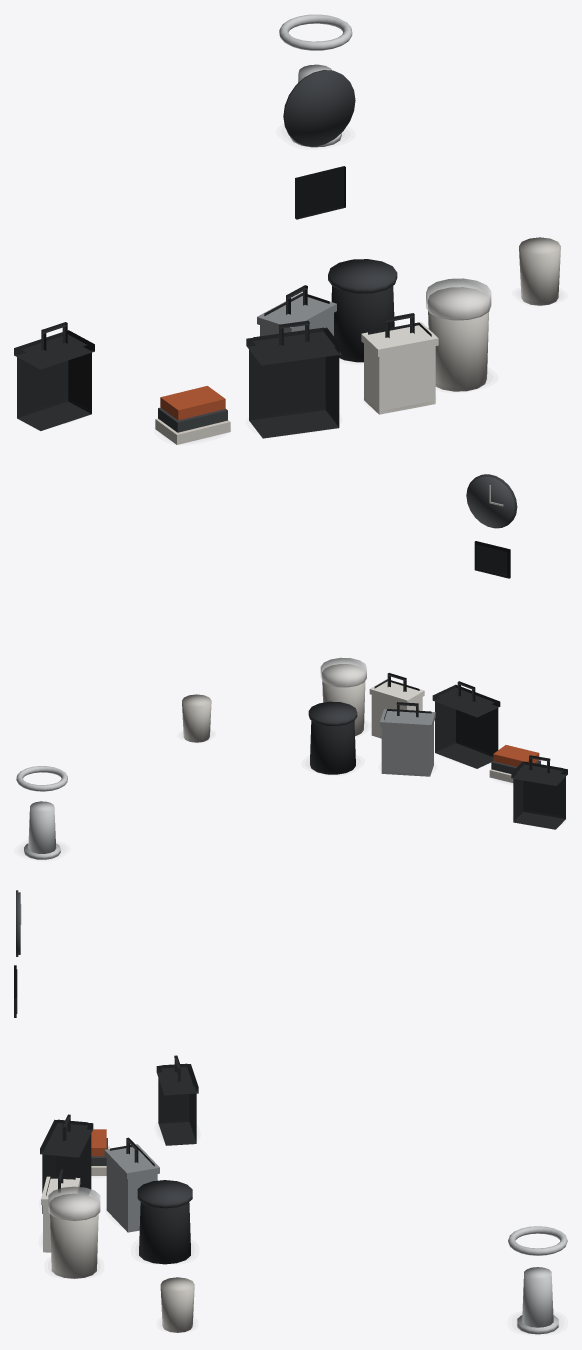
Rendered from office_clutter.glb.
3 renders of one model, top to bottom at view 1: azimuth 30°, elevation 25°; view 2: azimuth 150°, elevation 25°; view 3: azimuth 270°, elevation 25°, orthographic. The views are drawn at different scales.
Parts seen in each view (by area): view 1: root; view 2: root; view 3: root.
Boxes of the visible parts, x1,y1,x2,y2 form: root: (14, 14, 560, 444); root: (16, 474, 567, 859); root: (14, 890, 567, 1334).
Bounding box in the file's own units: 3.12 × 2.04 × 3.35.
